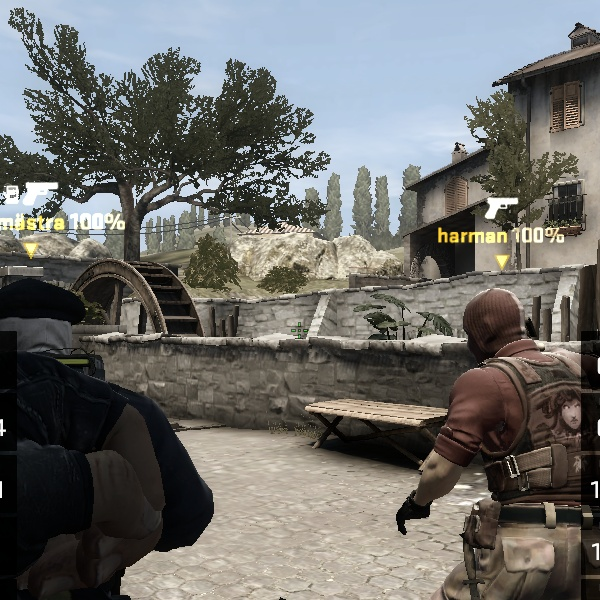t_body: (0, 280, 217, 598), (383, 278, 583, 595)
t_head: (7, 269, 159, 433), (448, 277, 543, 376)
